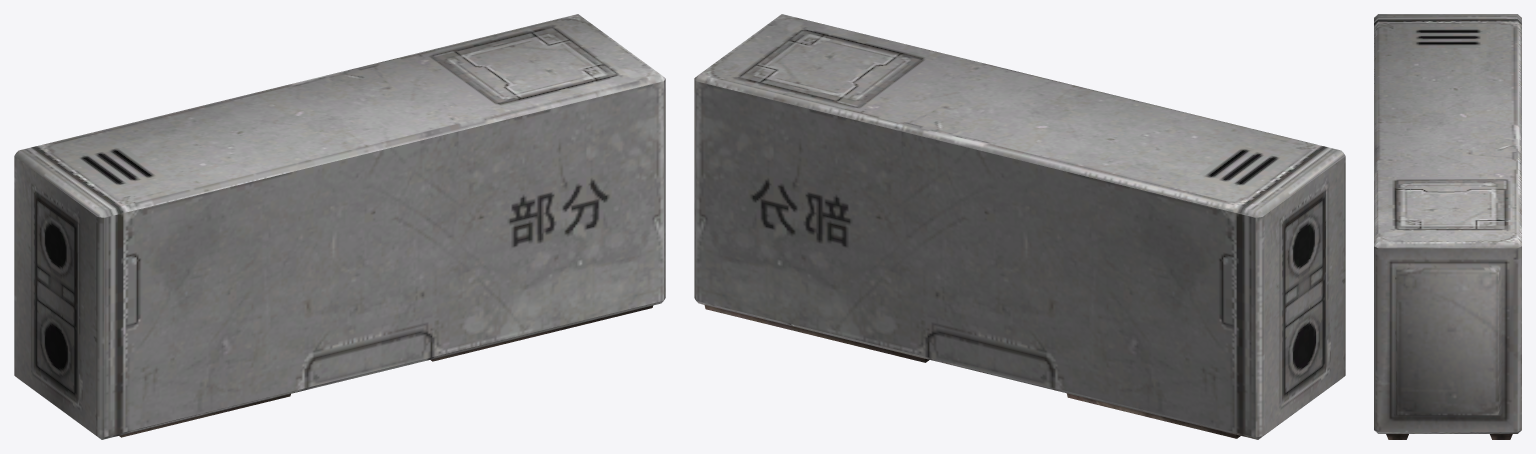
Rendered from junk_computer_part_03.dae.
3 views of the same model, side by side, from view 1: azimuth 30°, elevation 25°; view 2: azimuth 150°, elevation 25°; view 3: azimuth 270°, elevation 25° (orthographic). The views are drawn at different scales.
Parts seen in each view (by area): view 1: junk_computer_part_03; view 2: junk_computer_part_03; view 3: junk_computer_part_03.
Boxes of the visible parts, bbox=[...] form: junk_computer_part_03: bbox=[14, 14, 665, 439]; junk_computer_part_03: bbox=[694, 14, 1345, 439]; junk_computer_part_03: bbox=[1374, 14, 1521, 439].
Size of the model in its own units: 0.6515 by 0.2557 by 0.1726.
